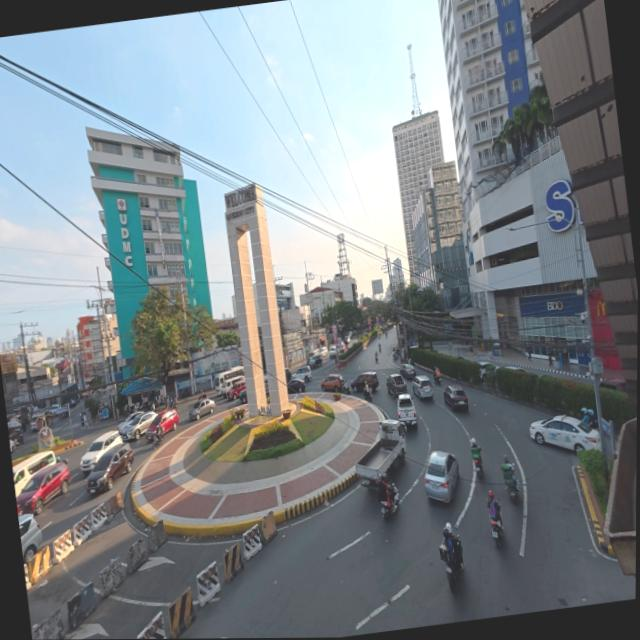car: (18, 463, 70, 515), (530, 415, 601, 452), (86, 444, 134, 493), (81, 430, 123, 476), (424, 452, 459, 502), (18, 514, 42, 565), (146, 410, 179, 441), (122, 412, 157, 441), (410, 373, 434, 401), (444, 385, 469, 411), (189, 398, 216, 420), (118, 412, 144, 434), (351, 371, 379, 391), (387, 373, 407, 398), (321, 374, 344, 392), (177, 634, 243, 640), (601, 378, 627, 392), (228, 379, 245, 400), (479, 361, 496, 380), (293, 365, 312, 382), (287, 378, 306, 393), (399, 364, 416, 380), (31, 415, 45, 432), (307, 355, 322, 368), (505, 365, 527, 373), (237, 388, 248, 404), (327, 345, 338, 359), (315, 347, 328, 358), (49, 405, 60, 415), (285, 368, 291, 383), (10, 440, 16, 453), (69, 398, 77, 407)
motorcycle: (440, 544, 463, 592), (381, 486, 399, 520), (491, 519, 503, 547), (506, 483, 517, 503), (153, 433, 163, 449), (474, 458, 482, 476), (341, 383, 351, 394), (364, 389, 372, 402), (433, 375, 441, 385), (378, 344, 381, 352)
trucks: (356, 420, 406, 486), (398, 394, 417, 425)
vans: (13, 451, 57, 498), (215, 366, 244, 395)
